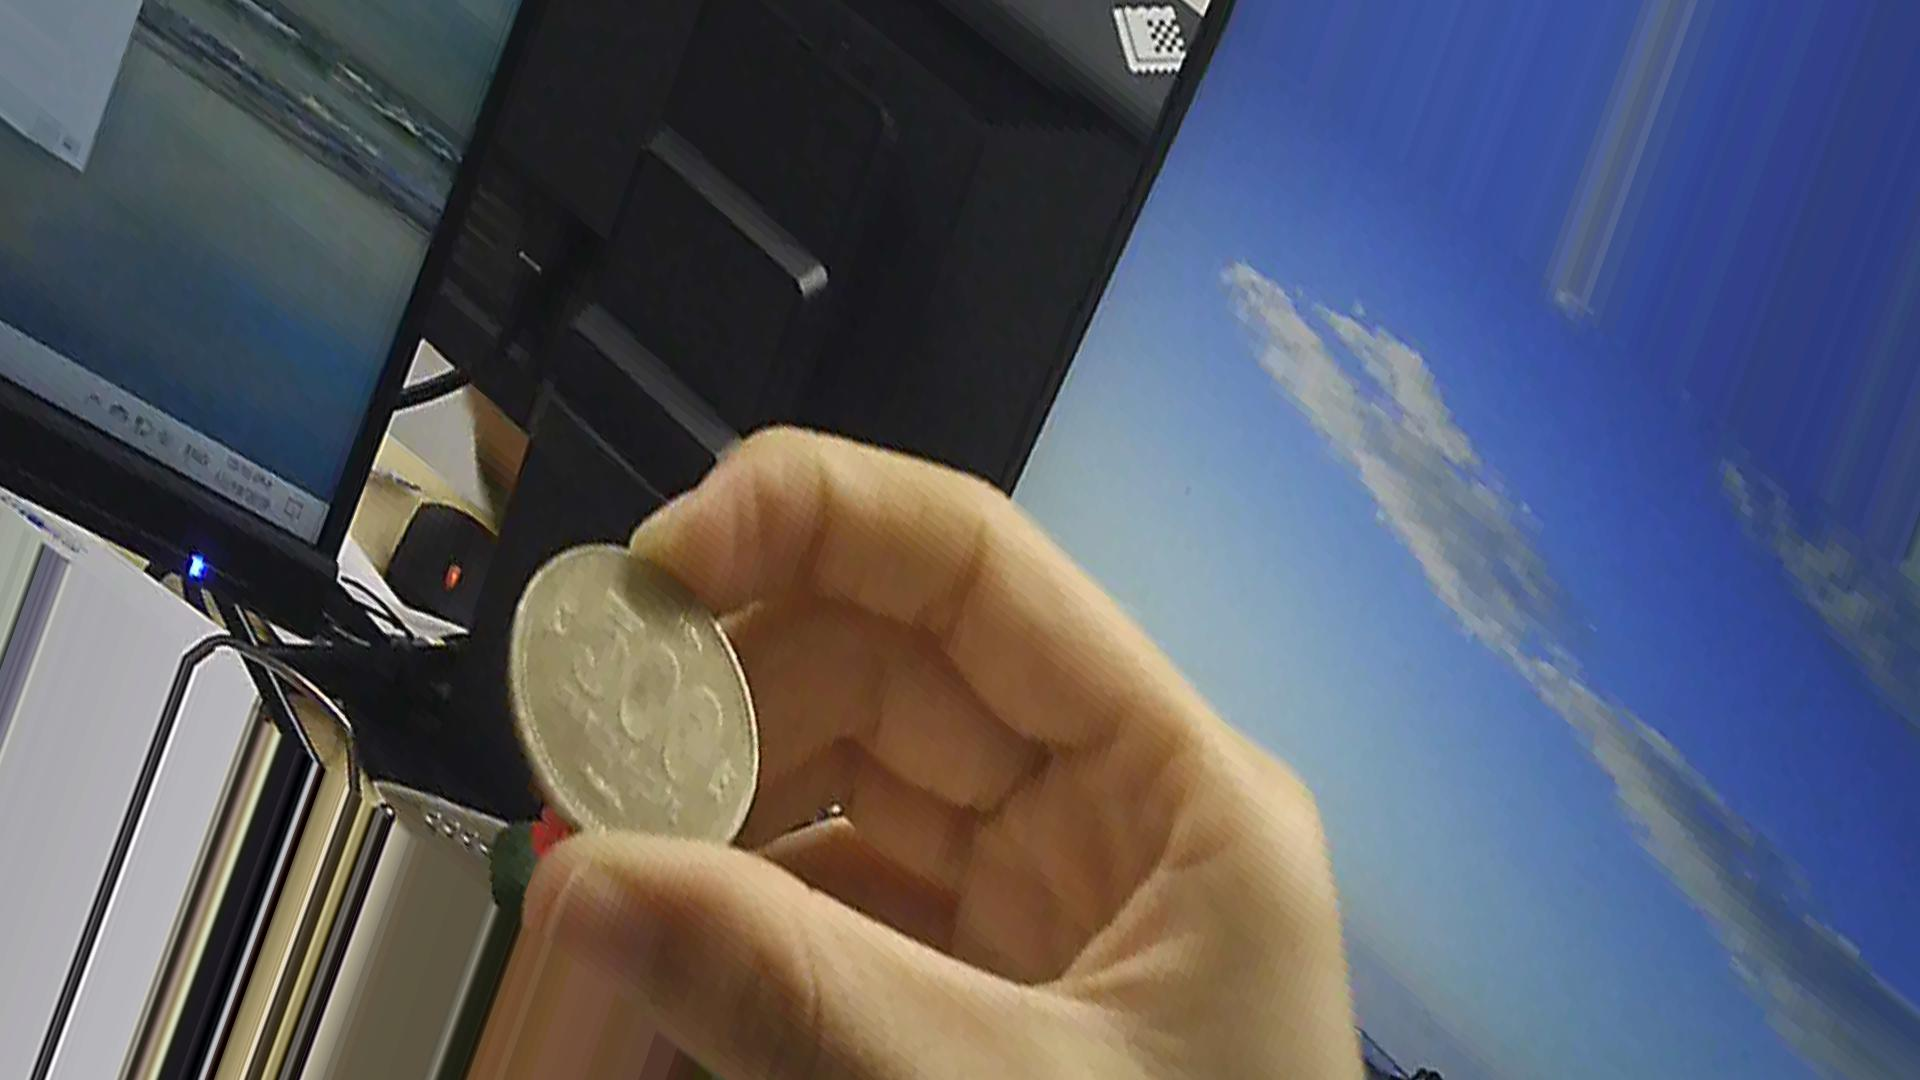500 Yen: (498, 521, 778, 869)
